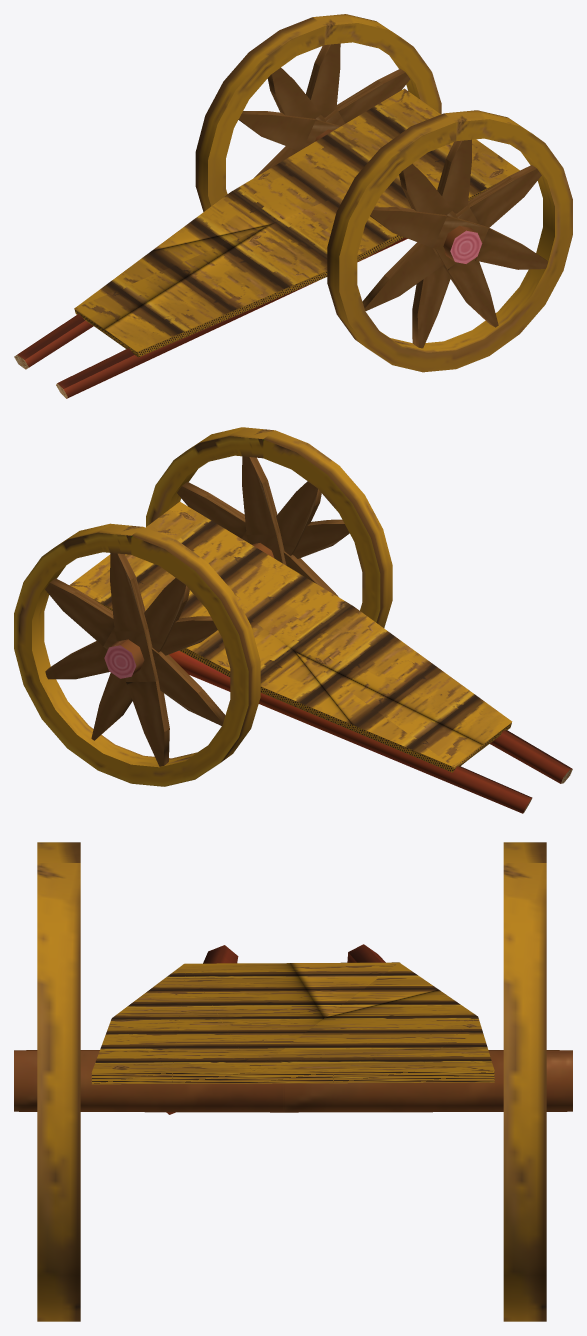
Rendered from vihicle1.FBX.
The picture shows the model from 3 angles, top to bottom: view 1: azimuth 30°, elevation 25°; view 2: azimuth 150°, elevation 25°; view 3: azimuth 270°, elevation 25°; orthographic projection. The views are drawn at different scales.
Parts seen in each view (by area): view 1: Tube002; view 2: Tube002; view 3: Tube002.
Boxes of the visible parts, x1=… form: Tube002: x1=14, y1=14, x2=572, y2=398; Tube002: x1=14, y1=427, x2=572, y2=813; Tube002: x1=14, y1=842, x2=572, y2=1321.
Bounding box in the file's own units: 58.34 × 29.69 × 34.33.
